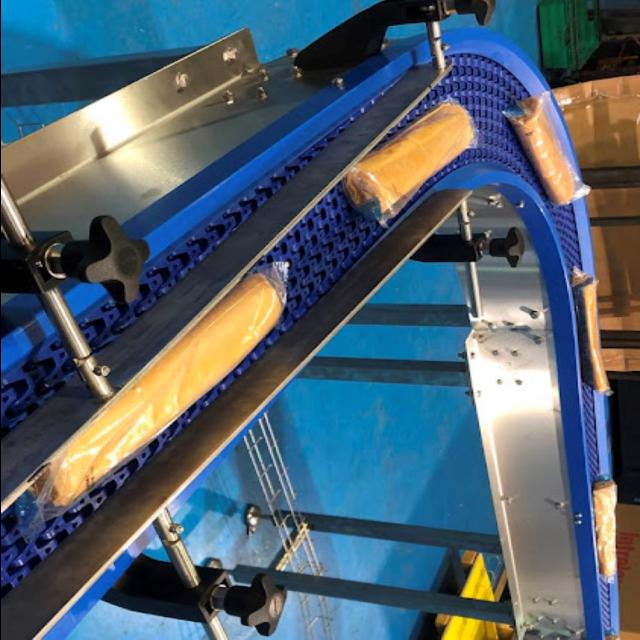food: (26, 260, 292, 518), (341, 100, 477, 228), (500, 90, 592, 206)
